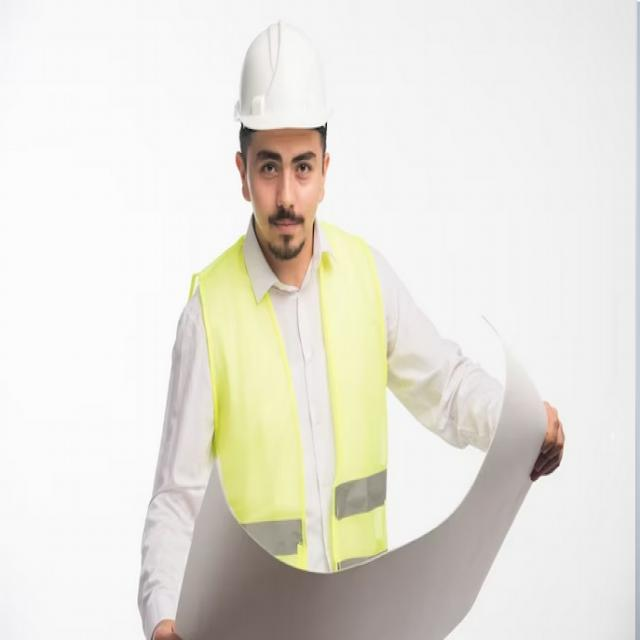helmet: (231, 15, 335, 144)
